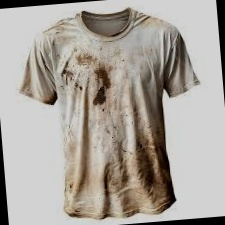earth: (133, 127, 171, 211), (90, 62, 112, 105), (105, 161, 130, 192), (63, 67, 81, 93), (76, 53, 94, 66)
